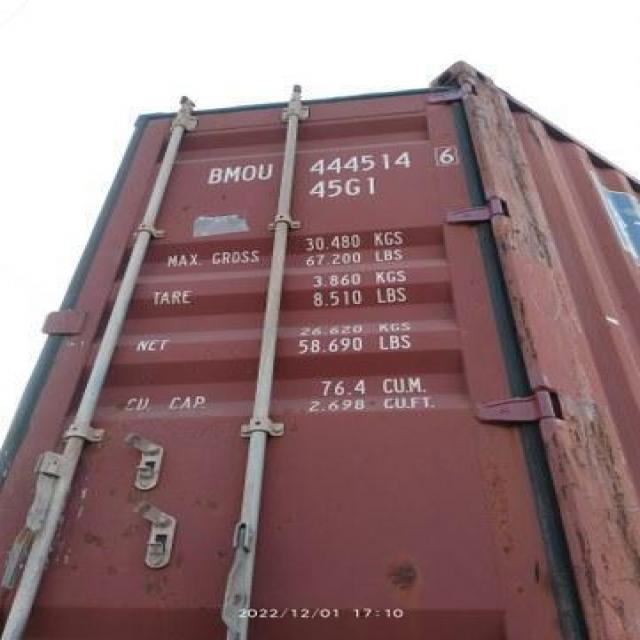ISO: (308, 177, 383, 199)
container_number: (196, 147, 446, 185)
